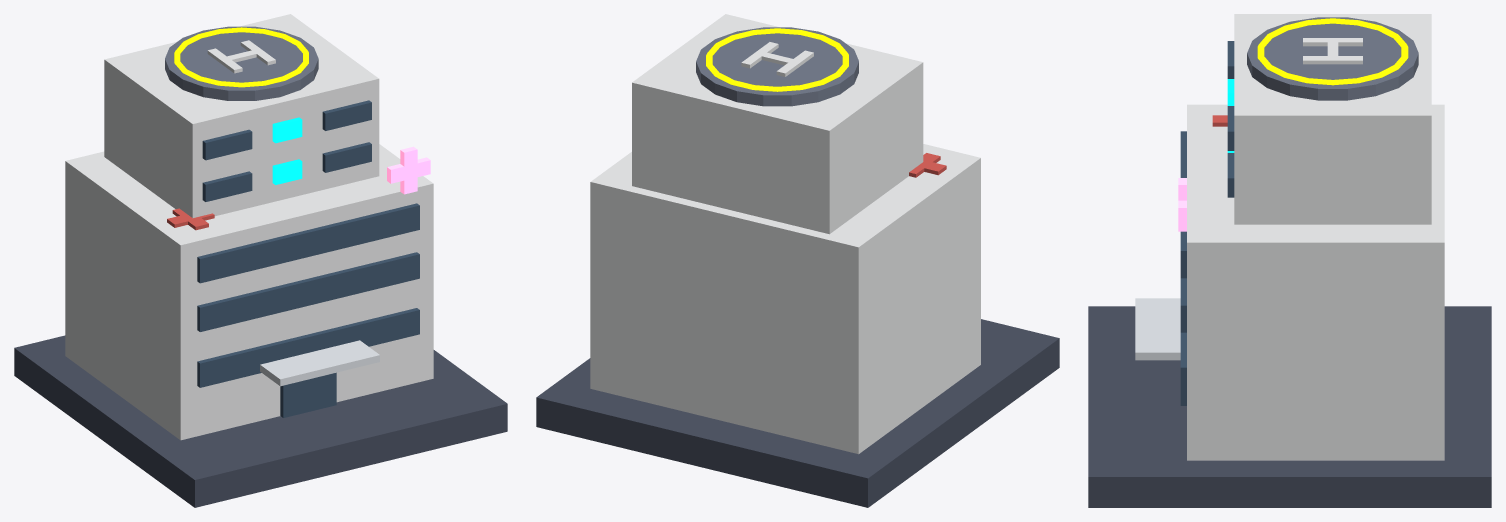
File: hospital.glb
The picture shows the model from 3 angles, left to right: view 1: azimuth 30°, elevation 25°; view 2: azimuth 150°, elevation 25°; view 3: azimuth 270°, elevation 25°; orthographic projection. The views are drawn at different scales.
Visible parts, largest first — view 1: MainBlock, plinth, UpperBlock, Helipad, WindowBand_0.42, WindowBand_0.56, WindowBand_0.26, EntranceCanopy, EntranceDoor, HelipadRing, UpperWinL_0.84, UpperWinL_0.72 (+6 smaller); view 2: MainBlock, UpperBlock, plinth, Helipad, HelipadRing; view 3: MainBlock, plinth, UpperBlock, Helipad, EntranceCanopy, HelipadRing, WindowBand_0.56, HeliH_0.05, HeliH_-0.05.
Part boxes in pixels (x1,y1,x2,y2): MainBlock: (65,144,433,440); plinth: (14,335,507,507); UpperBlock: (104,14,379,217); Helipad: (165,26,318,100); WindowBand_0.42: (197,252,419,331); WindowBand_0.56: (197,203,419,283); WindowBand_0.26: (197,308,419,387); EntranceCanopy: (260,340,379,386); EntranceDoor: (280,372,336,417); HelipadRing: (174,27,308,87); UpperWinL_0.84: (202,129,252,160); UpperWinL_0.72: (202,171,252,201); MainBlock: (590,144,980,454); UpperBlock: (632,14,923,234); plinth: (536,319,1059,507); Helipad: (696,27,858,106); HelipadRing: (706,28,848,91); MainBlock: (1187,104,1444,460); plinth: (1088,306,1491,507); UpperBlock: (1234,14,1431,224); Helipad: (1247,17,1418,100); EntranceCanopy: (1135,298,1180,360); HelipadRing: (1257,18,1408,85); WindowBand_0.56: (1180,131,1186,278); HeliH_0.05: (1303,56,1362,64); HeliH_-0.05: (1303,38,1362,46).
Size of the model in its own units: 0.94 by 0.96 by 0.94.
